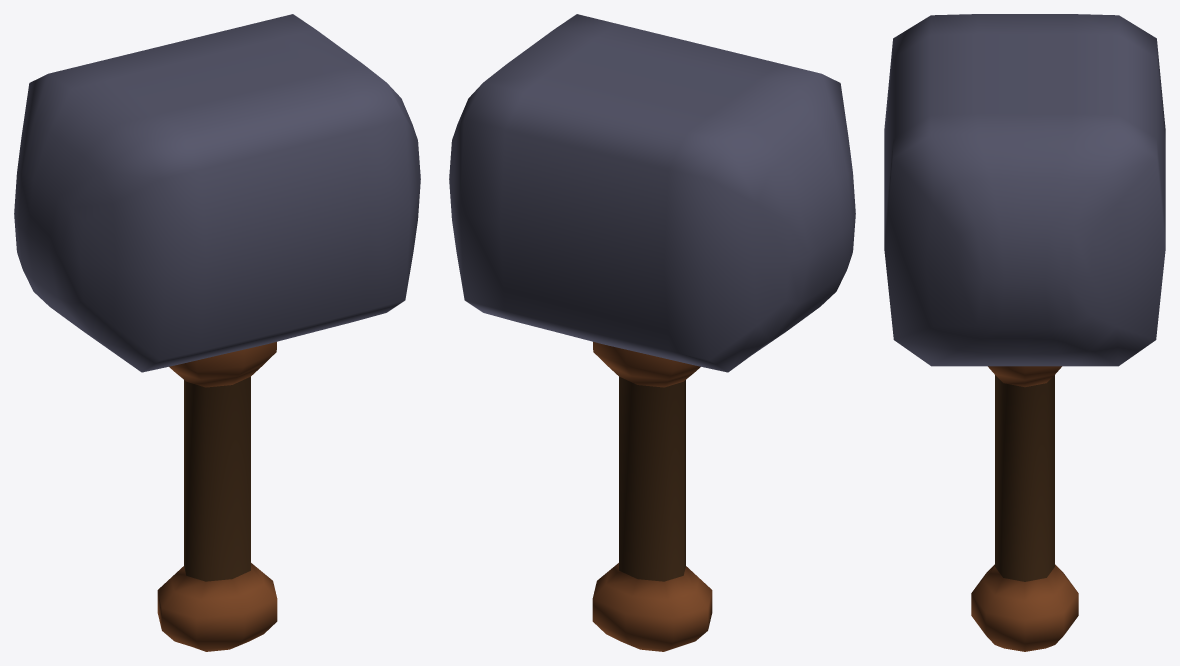
Rendered from hammer.fbx.
The picture shows the model from 3 angles, left to right: view 1: azimuth 30°, elevation 25°; view 2: azimuth 150°, elevation 25°; view 3: azimuth 270°, elevation 25°; orthographic projection.
Parts seen in each view (by area): view 1: Hammer; view 2: Hammer; view 3: Hammer.
Boxes of the visible parts, box(x1,y1,x2,y2) form: Hammer: box(14, 14, 420, 651); Hammer: box(449, 14, 855, 651); Hammer: box(884, 14, 1165, 651).
Size of the model in its own units: 4.79 by 7.23 by 3.24.
